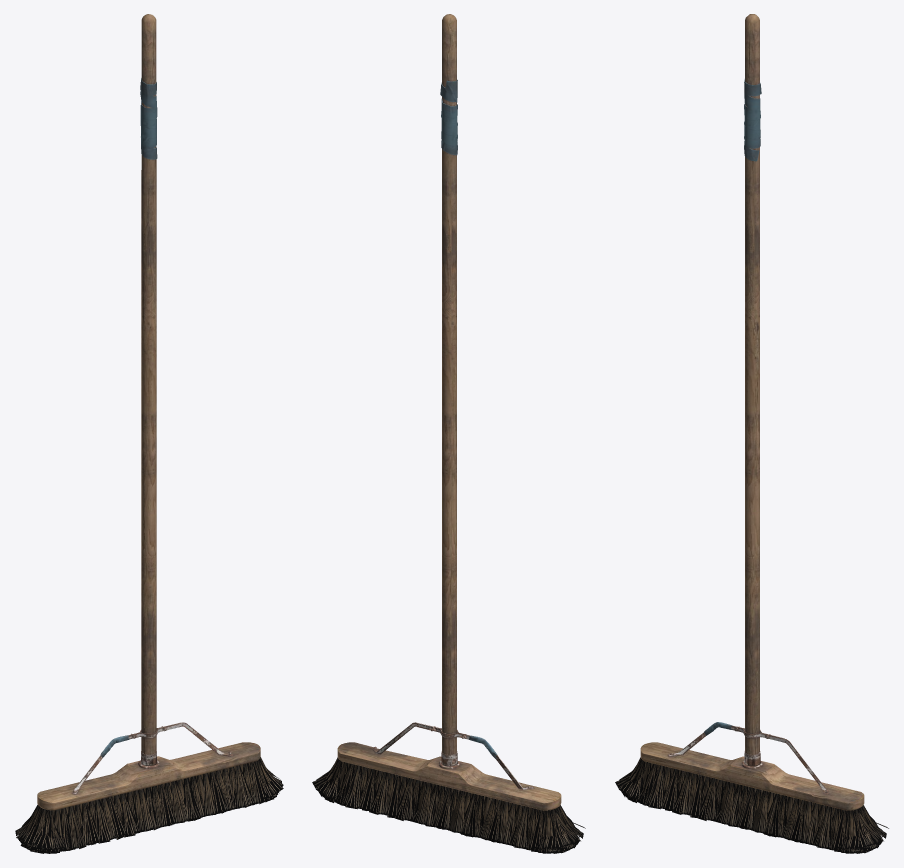
File: broom.glb
3 renders of one model, left to right at view 1: azimuth 30°, elevation 25°; view 2: azimuth 150°, elevation 25°; view 3: azimuth 330°, elevation 25°, orthographic.
Visible parts, largest first — view 1: wooden_broom_handle, wooden_broom_bristles, wooden_broom; view 2: wooden_broom_handle, wooden_broom_bristles, wooden_broom; view 3: wooden_broom_handle, wooden_broom_bristles, wooden_broom.
Boxes of the visible parts, box(x1,y1,x2,y2) form: wooden_broom_handle: box(140, 14, 157, 765); wooden_broom_bristles: box(15, 757, 283, 853); wooden_broom: box(37, 722, 260, 817); wooden_broom_handle: box(440, 14, 457, 766); wooden_broom_bristles: box(312, 757, 585, 853); wooden_broom: box(337, 722, 565, 824); wooden_broom_handle: box(744, 14, 761, 766); wooden_broom_bristles: box(615, 757, 888, 853); wooden_broom: box(640, 722, 864, 826).
Size of the model in its own units: 0.4902 by 1.45 by 0.1125.
Materials: 2 (2 with a texture image).
